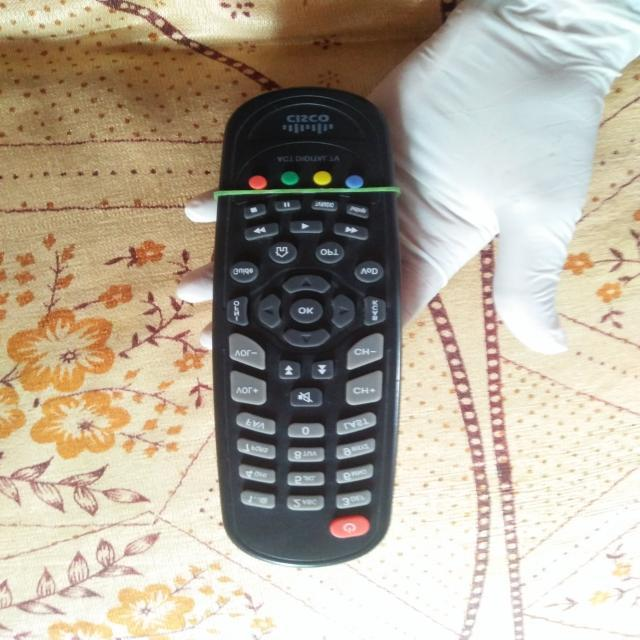gloved_hand: (170, 1, 634, 408)
